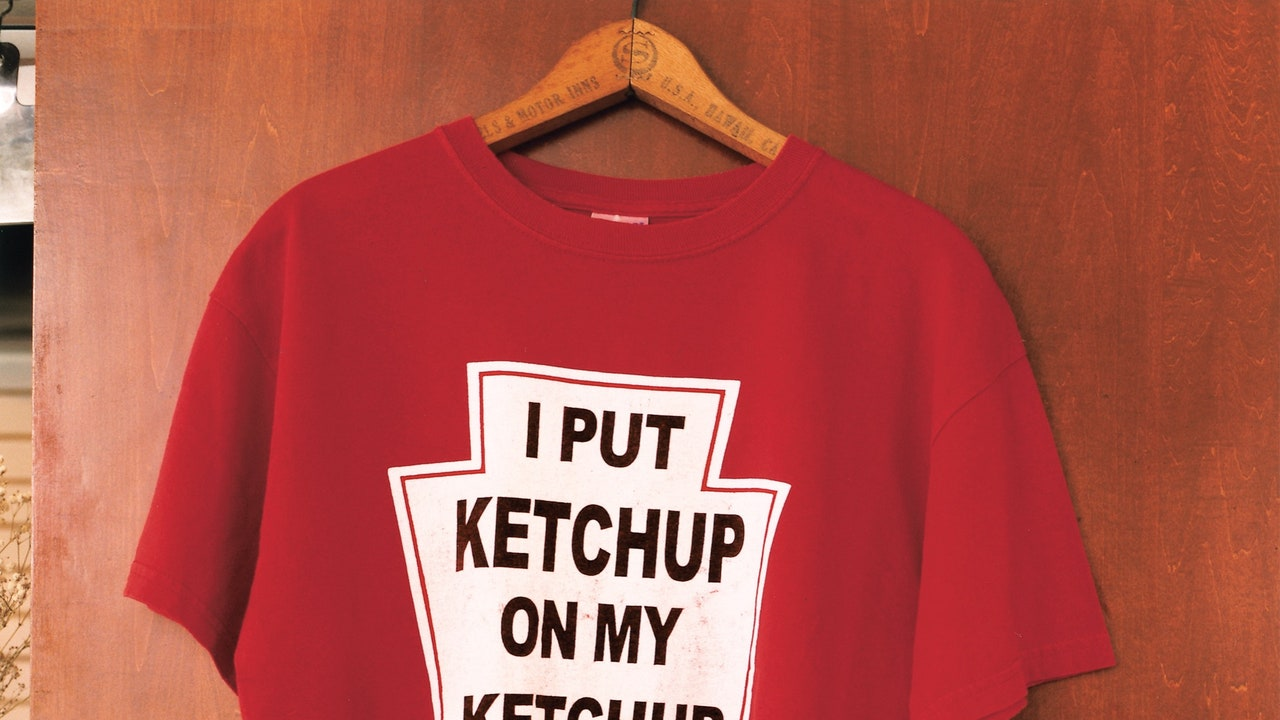blouse: (122, 160, 1110, 720)
